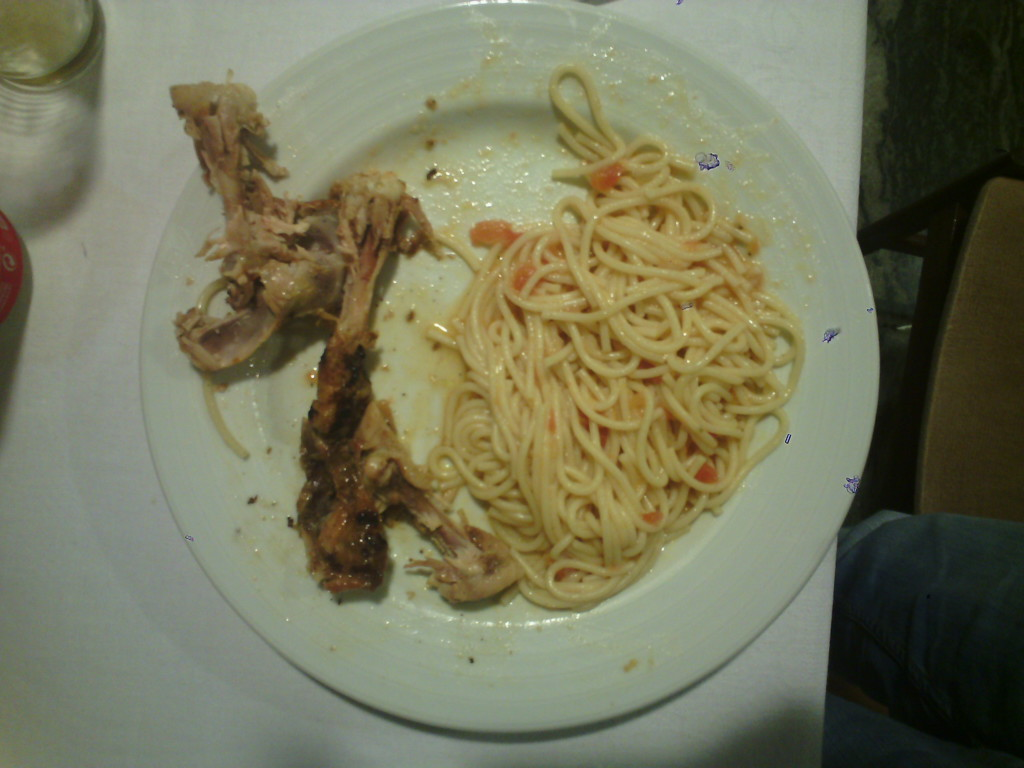61-80: (145, 11, 881, 748)
